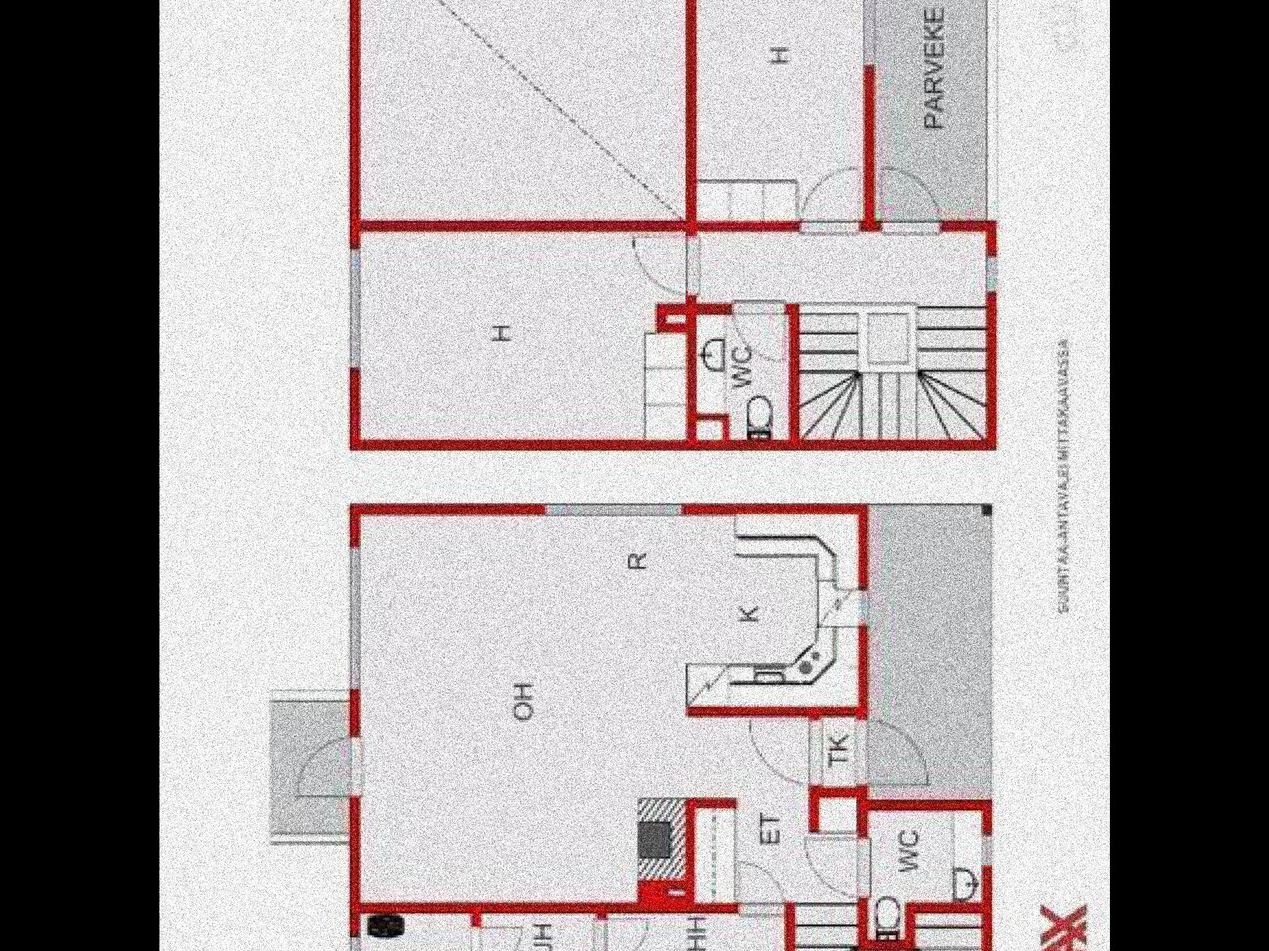door: (853, 715, 936, 793), (626, 227, 706, 302), (744, 717, 824, 785), (293, 732, 367, 801), (809, 834, 888, 897), (732, 290, 792, 367), (803, 166, 863, 242), (879, 166, 938, 237), (738, 856, 784, 921), (594, 911, 651, 951), (474, 926, 524, 951)
window: (547, 498, 690, 518), (349, 542, 364, 691), (349, 247, 366, 367), (861, 0, 884, 68), (978, 833, 1001, 871), (985, 253, 1001, 298), (352, 938, 360, 951)
zone: (360, 505, 852, 906), (354, 0, 695, 219), (360, 232, 684, 443), (690, 227, 986, 442), (866, 506, 996, 798), (693, 0, 860, 220), (878, 0, 986, 222), (866, 810, 977, 944), (688, 309, 785, 443), (273, 693, 347, 845), (792, 897, 992, 951), (605, 906, 793, 951), (478, 912, 595, 951), (358, 915, 470, 951)
